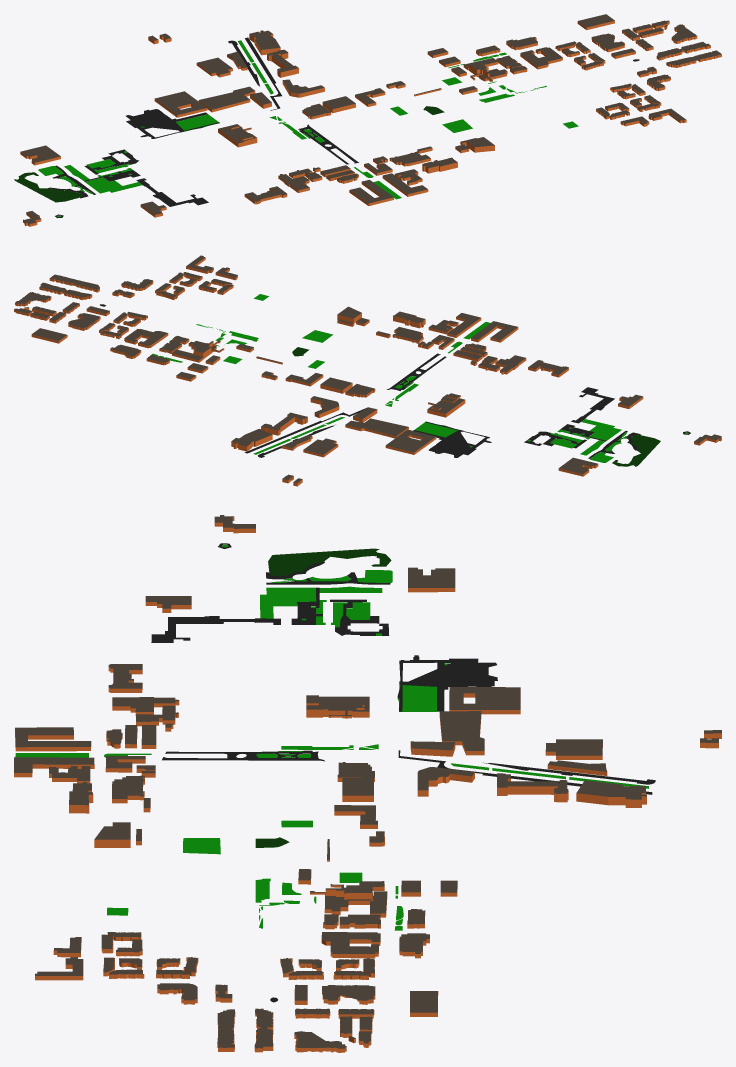
File: grassandbuildings.obj
3 renders of one model, top to bottom at view 1: azimuth 30°, elevation 25°; view 2: azimuth 150°, elevation 25°; view 3: azimuth 270°, elevation 25°, orthographic. The views are drawn at different scales.
Visible parts, largest first — view 1: element.545_Mesh.773, Old_Student_Union_Building_(SUB)_Mesh.765, The_Nest_(New_SUB)_Mesh.760, element.037_Mesh.131, element.237_Mesh.314, David_Strangway_Building_Mesh.756, Allard_Hall_Mesh.014, D.H._Copp_Building_Mesh.764, element.017_Mesh.022, War_Memorial_Gym_Mesh.758, element.033_Mesh.067, Hennings_Building_Mesh.146 (+12 smaller); view 2: element.545_Mesh.773, Old_Student_Union_Building_(SUB)_Mesh.765, The_Nest_(New_SUB)_Mesh.760, element.037_Mesh.131, David_Strangway_Building_Mesh.756, element.237_Mesh.314, D.H._Copp_Building_Mesh.764, Allard_Hall_Mesh.014, War_Memorial_Gym_Mesh.758, element.017_Mesh.022, element.033_Mesh.067, Hennings_Building_Mesh.146 (+4 smaller); view 3: element.545_Mesh.773, Old_Student_Union_Building_(SUB)_Mesh.765, The_Nest_(New_SUB)_Mesh.760, element.037_Mesh.131, David_Strangway_Building_Mesh.756, element.237_Mesh.314, D.H._Copp_Building_Mesh.764, element.017_Mesh.022, Allard_Hall_Mesh.014, War_Memorial_Gym_Mesh.758, element.033_Mesh.067, Wesbrook_Building_Mesh.757 (+7 smaller).
Boxes of the visible parts, x1=… form: element.545_Mesh.773: x1=126, y1=109, x2=219, y2=138; Old_Student_Union_Building_(SUB)_Mesh.765: x1=154, y1=91, x2=207, y2=117; The_Nest_(New_SUB)_Mesh.760: x1=198, y1=86, x2=255, y2=112; element.037_Mesh.131: x1=14, y1=172, x2=82, y2=202; element.237_Mesh.314: x1=520, y1=47, x2=562, y2=69; David_Strangway_Building_Mesh.756: x1=249, y1=30, x2=280, y2=55; Allard_Hall_Mesh.014: x1=20, y1=145, x2=60, y2=165; D.H._Copp_Building_Mesh.764: x1=267, y1=49, x2=298, y2=77; element.017_Mesh.022: x1=85, y1=177, x2=142, y2=193; War_Memorial_Gym_Mesh.758: x1=196, y1=57, x2=232, y2=77; element.033_Mesh.067: x1=136, y1=178, x2=208, y2=206; Hennings_Building_Mesh.146: x1=218, y1=124, x2=257, y2=147; element.545_Mesh.773: x1=425, y1=421, x2=491, y2=457; Old_Student_Union_Building_(SUB)_Mesh.765: x1=385, y1=429, x2=436, y2=454; The_Nest_(New_SUB)_Mesh.760: x1=345, y1=418, x2=408, y2=438; element.037_Mesh.131: x1=612, y1=434, x2=660, y2=466; David_Strangway_Building_Mesh.756: x1=231, y1=428, x2=272, y2=451; element.237_Mesh.314: x1=124, y1=329, x2=168, y2=348; D.H._Copp_Building_Mesh.764: x1=261, y1=412, x2=307, y2=435; Allard_Hall_Mesh.014: x1=558, y1=457, x2=598, y2=476; War_Memorial_Gym_Mesh.758: x1=303, y1=438, x2=338, y2=457; element.017_Mesh.022: x1=581, y1=419, x2=621, y2=440; element.033_Mesh.067: x1=571, y1=387, x2=614, y2=423; Hennings_Building_Mesh.146: x1=427, y1=398, x2=465, y2=417; element.545_Mesh.773: x1=397, y1=655, x2=497, y2=711; Old_Student_Union_Building_(SUB)_Mesh.765: x1=449, y1=687, x2=520, y2=714; The_Nest_(New_SUB)_Mesh.760: x1=439, y1=711, x2=484, y2=755; element.037_Mesh.131: x1=268, y1=548, x2=391, y2=576; David_Strangway_Building_Mesh.756: x1=576, y1=780, x2=646, y2=807; element.237_Mesh.314: x1=321, y1=932, x2=380, y2=958; D.H._Copp_Building_Mesh.764: x1=497, y1=773, x2=568, y2=802; element.017_Mesh.022: x1=260, y1=587, x2=316, y2=618; Allard_Hall_Mesh.014: x1=408, y1=567, x2=455, y2=592; War_Memorial_Gym_Mesh.758: x1=545, y1=739, x2=602, y2=759; element.033_Mesh.067: x1=151, y1=616, x2=280, y2=642; Wesbrook_Building_Mesh.757: x1=417, y1=767, x2=474, y2=796.
Bounding box in the file's own units: 1.28 × 0.0124 × 0.7156.
